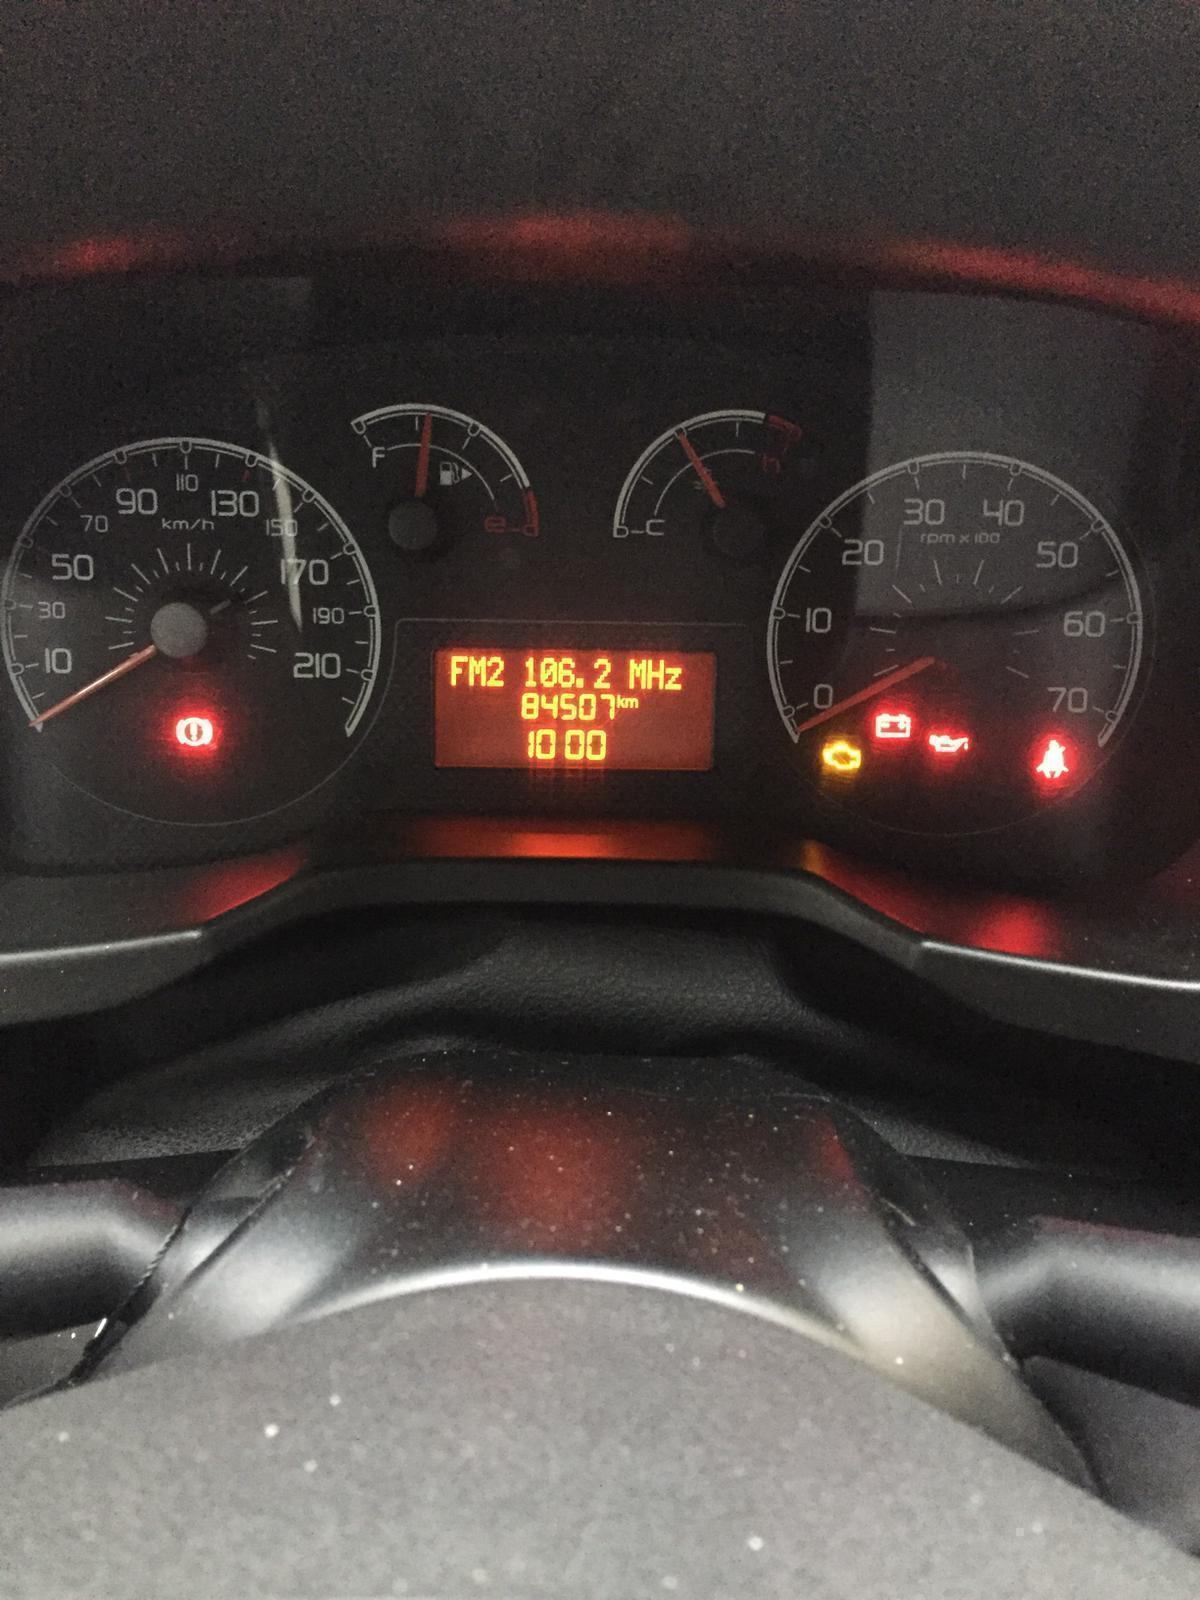,: (575, 674, 586, 689)
0: (534, 728, 557, 761), (563, 728, 585, 761), (586, 728, 608, 761), (538, 656, 558, 688), (577, 690, 597, 721)
1: (522, 655, 537, 688), (524, 728, 534, 758)
2: (592, 656, 613, 690), (487, 654, 505, 688)
4: (539, 692, 558, 719)
5: (558, 690, 576, 721)
6: (558, 655, 576, 689)
7: (599, 692, 615, 722)
8: (521, 690, 539, 721)
X: (468, 654, 487, 688), (647, 656, 664, 690), (628, 656, 645, 690), (449, 654, 466, 687), (664, 665, 682, 690), (625, 695, 639, 708), (616, 693, 626, 709)
odometer: (432, 641, 718, 776)
